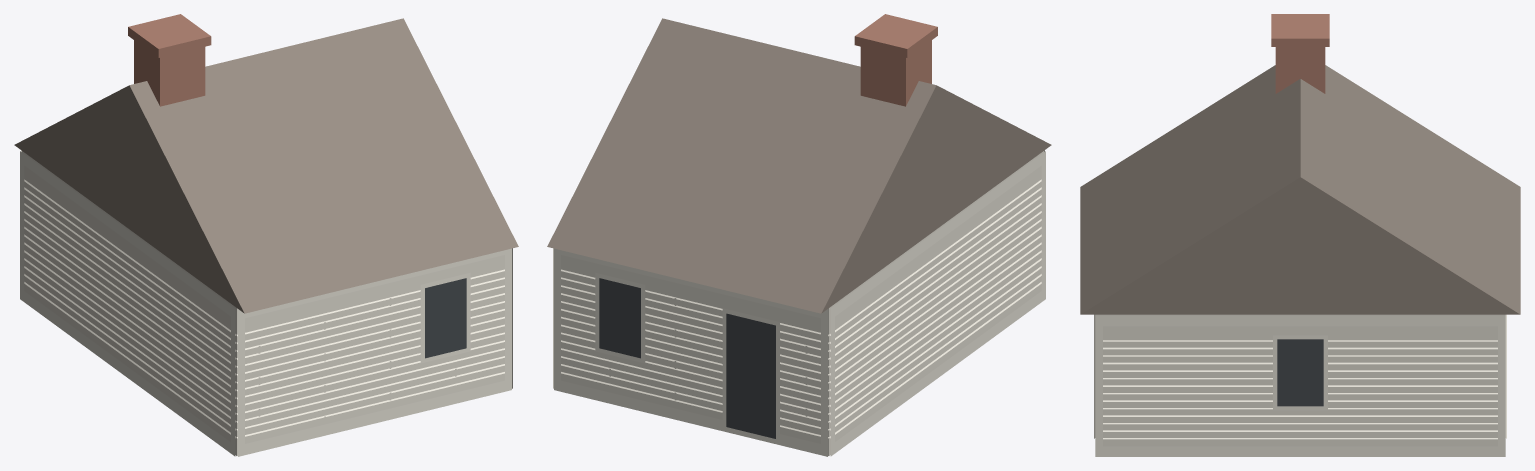
Rendered from recon_1835_blk_randolph_dearborn_d3_01__inferred_1835.glb.
The picture shows the model from 3 angles, left to right: view 1: azimuth 30°, elevation 25°; view 2: azimuth 150°, elevation 25°; view 3: azimuth 270°, elevation 25°; orthographic projection. The views are drawn at different scales.
Visible parts, largest first — view 1: recon_1835_blk_randolph_dearborn_d3_01__inferred_1835; view 2: recon_1835_blk_randolph_dearborn_d3_01__inferred_1835; view 3: recon_1835_blk_randolph_dearborn_d3_01__inferred_1835.
Boxes of the visible parts, x1=… form: recon_1835_blk_randolph_dearborn_d3_01__inferred_1835: x1=14, y1=14, x2=518, y2=456; recon_1835_blk_randolph_dearborn_d3_01__inferred_1835: x1=547, y1=14, x2=1051, y2=456; recon_1835_blk_randolph_dearborn_d3_01__inferred_1835: x1=1080, y1=14, x2=1520, y2=456.
Bounding box in the file's own units: 5.18 × 5.98 × 7.43.
